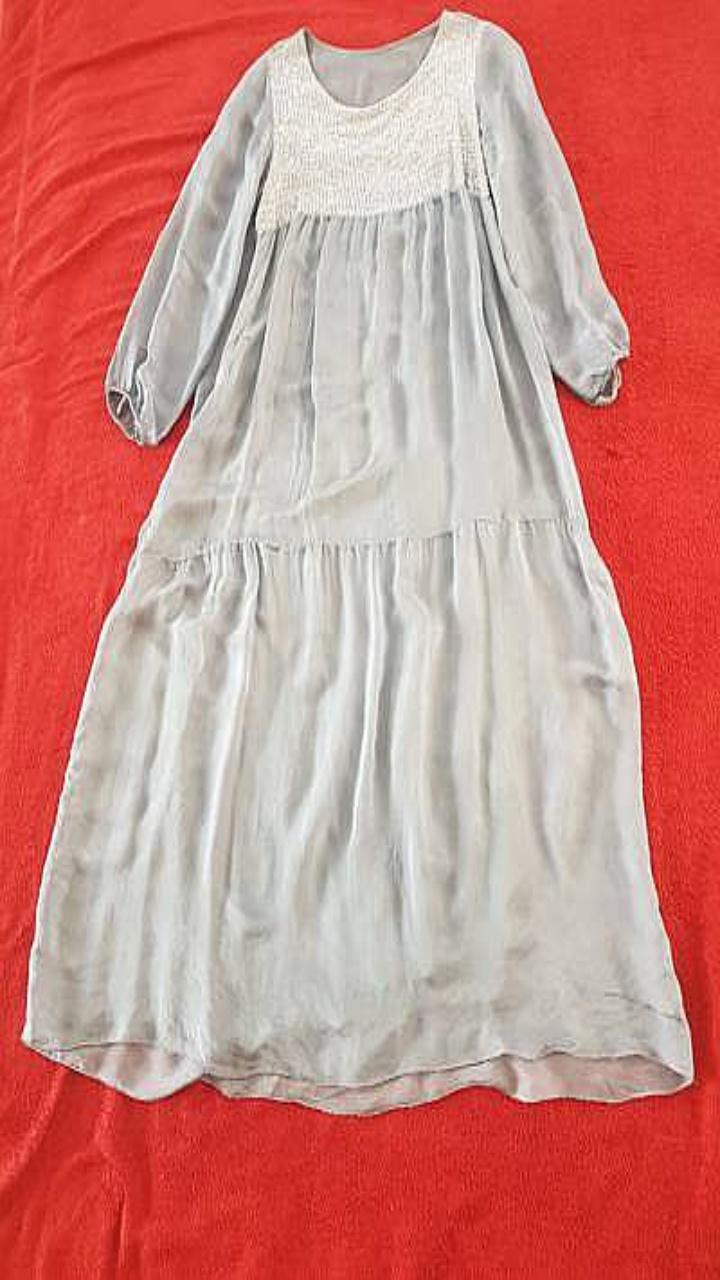Dresses: (22, 9, 693, 1113)
